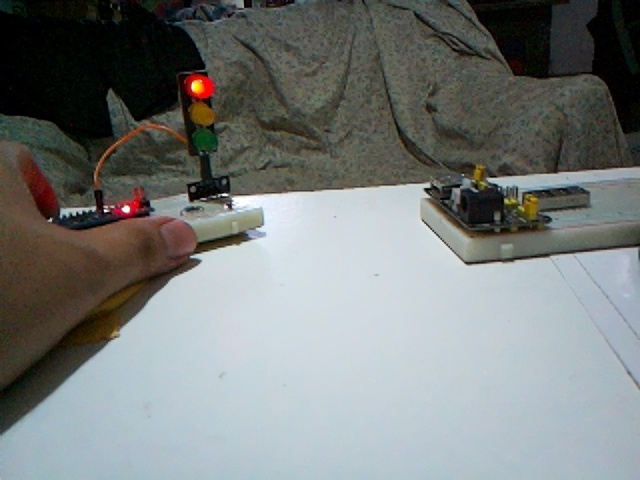traffic_light_red: (177, 69, 217, 155)
